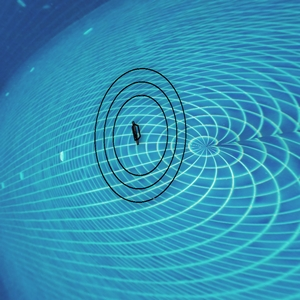circle: (89, 49, 185, 203)
submarine: (129, 122, 143, 146)
